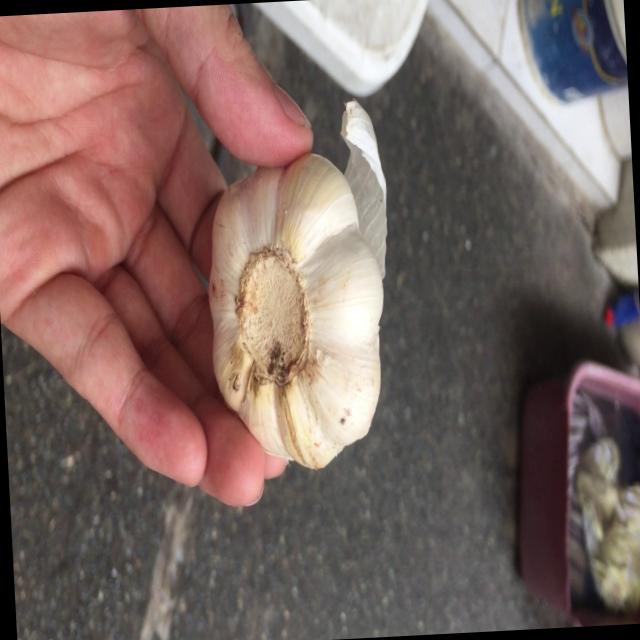bawang: (194, 150, 395, 474)
